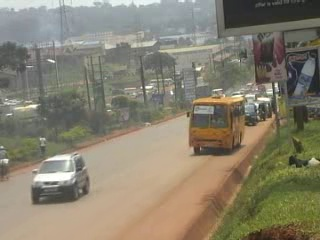Car: (26, 150, 90, 205)
